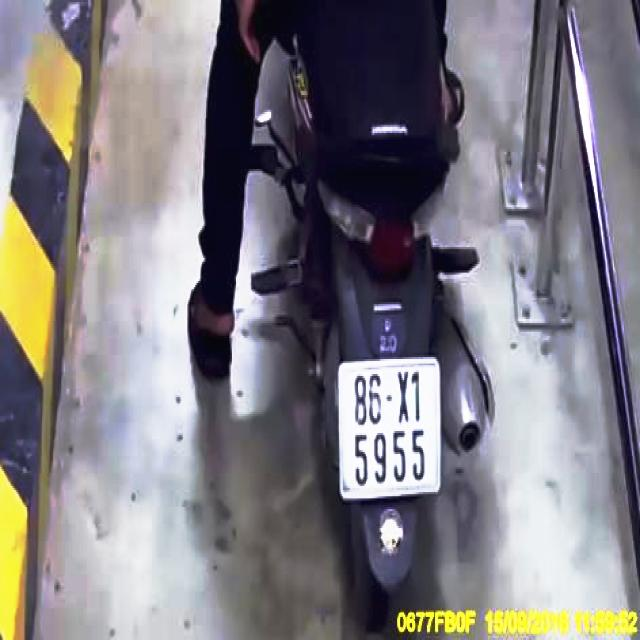license_plate: (342, 364, 440, 496)
